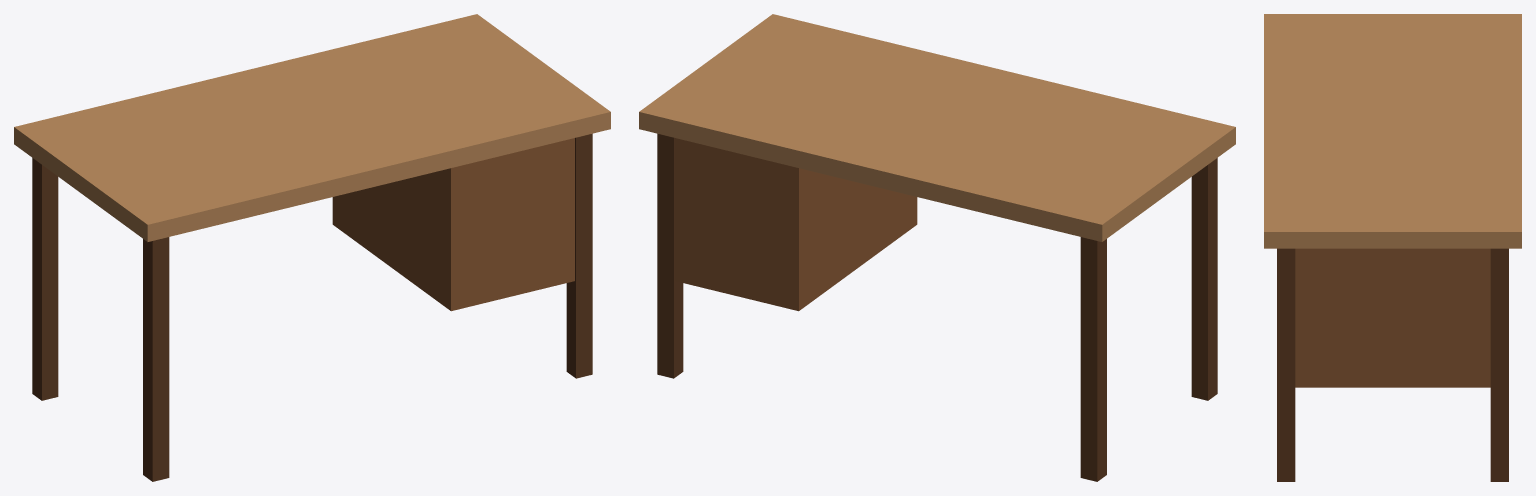
File: desk.glb
3 views of the same model, side by side, from view 1: azimuth 30°, elevation 25°; view 2: azimuth 150°, elevation 25°; view 3: azimuth 270°, elevation 25° (orthographic). The views are drawn at different scales.
Parts seen in each view (by area): view 1: desk-b9895a, desk-8a5a35, desk-5e3b22; view 2: desk-b9895a, desk-8a5a35, desk-5e3b22; view 3: desk-b9895a, desk-8a5a35, desk-5e3b22.
Part boxes in pixels (x1=…): desk-b9895a: x1=14, y1=14, x2=610, y2=241; desk-8a5a35: x1=332, y1=138, x2=574, y2=311; desk-5e3b22: x1=32, y1=133, x2=592, y2=481; desk-b9895a: x1=639, y1=14, x2=1235, y2=241; desk-8a5a35: x1=675, y1=138, x2=917, y2=311; desk-5e3b22: x1=657, y1=133, x2=1217, y2=481; desk-b9895a: x1=1264, y1=14, x2=1521, y2=248; desk-8a5a35: x1=1295, y1=248, x2=1490, y2=387; desk-5e3b22: x1=1277, y1=248, x2=1508, y2=481.
Bounding box in the file's own units: 1.4 × 0.765 × 0.7.
